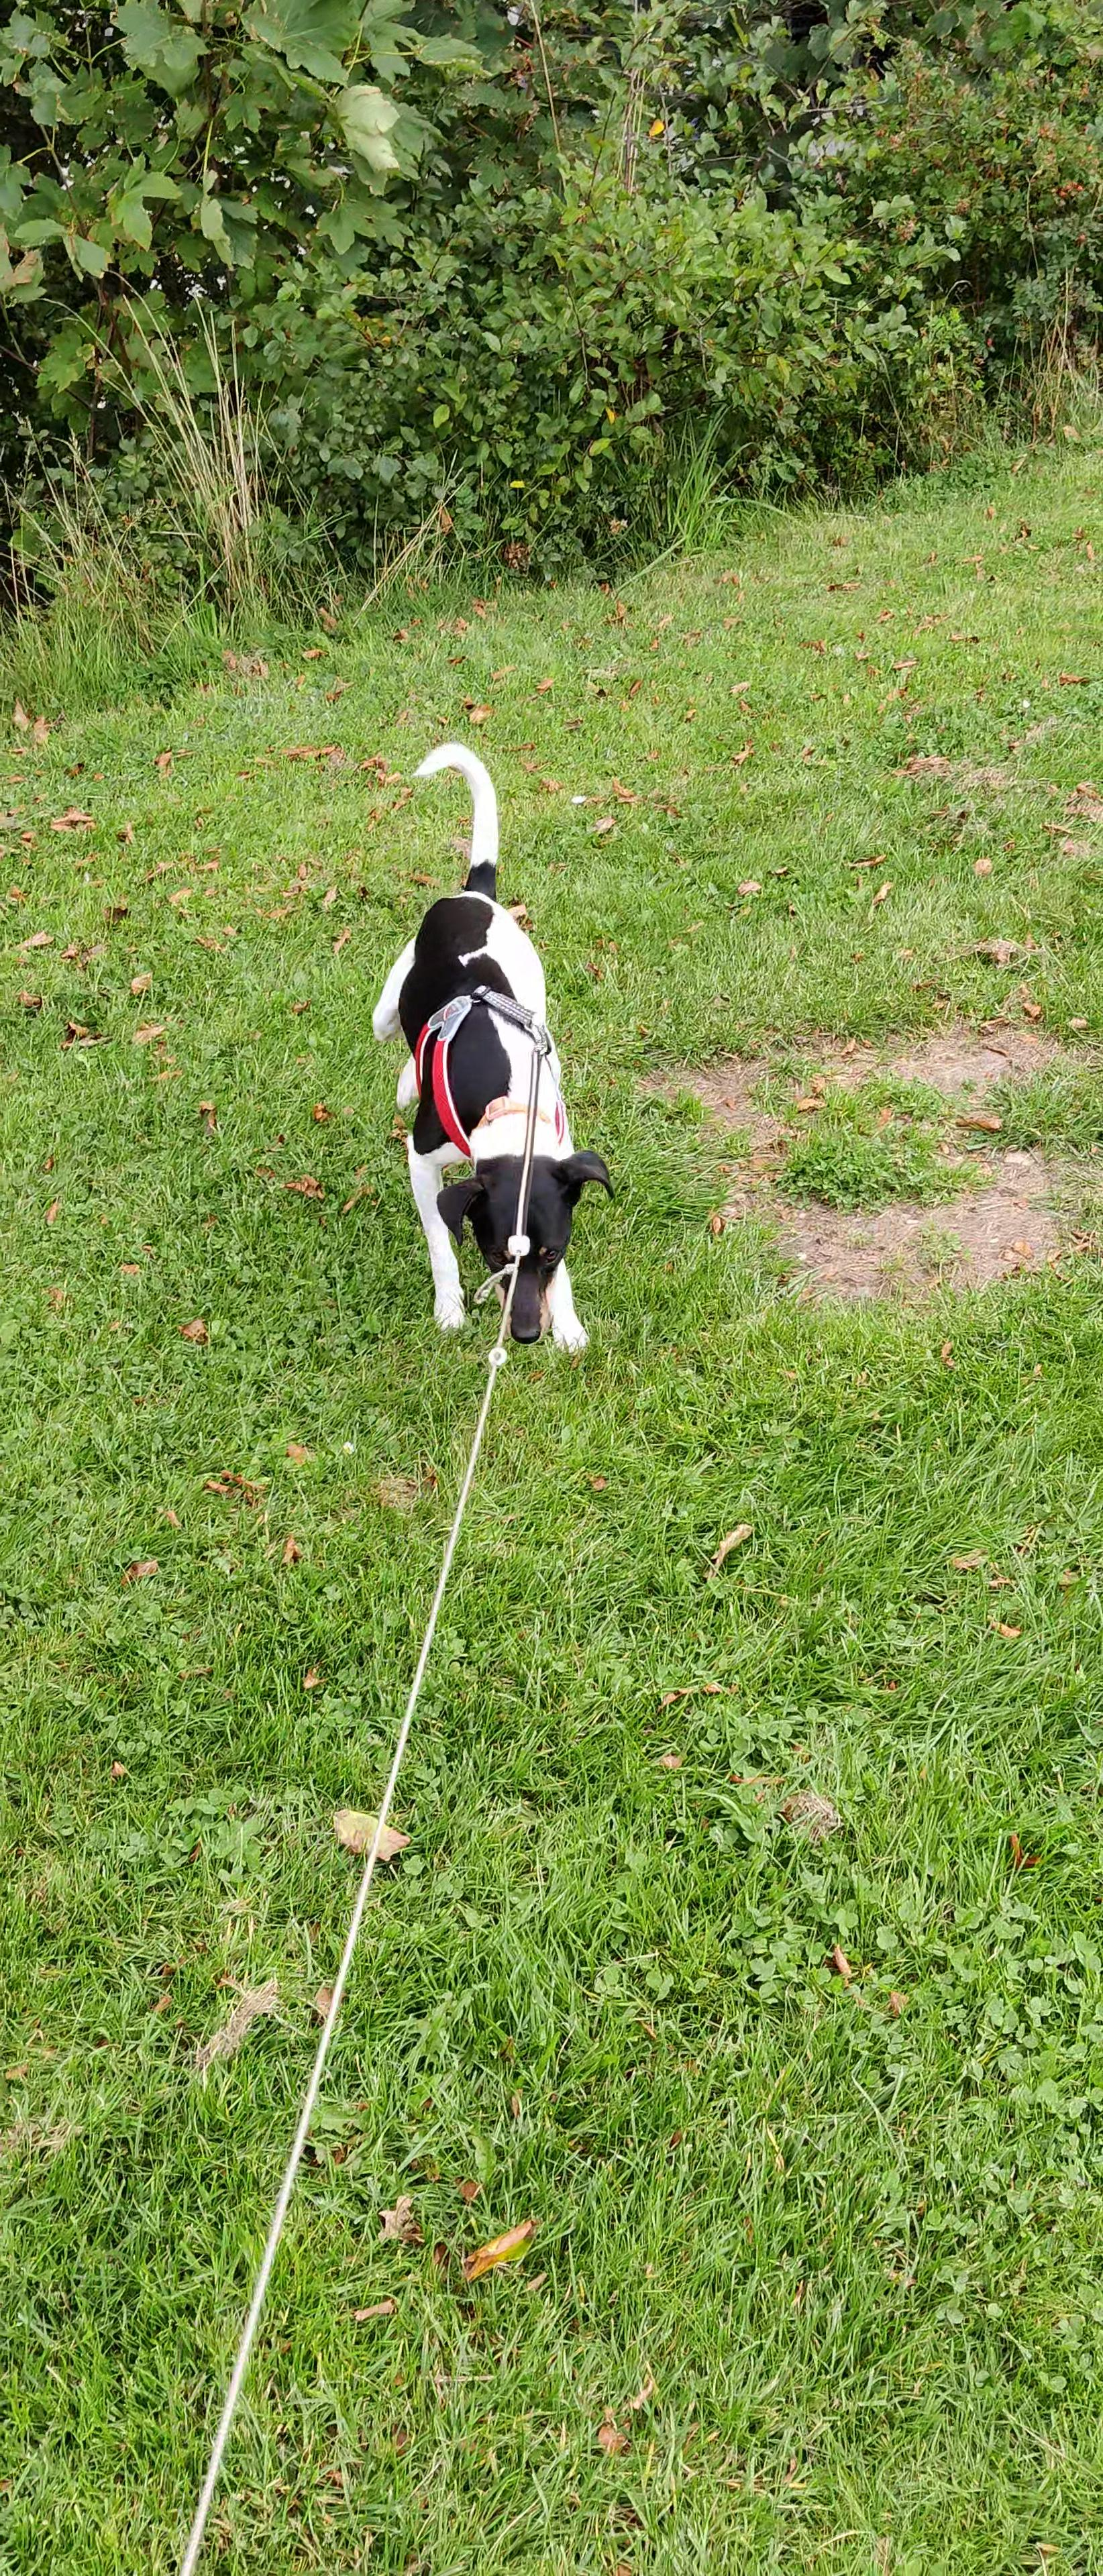Dog: (350, 733, 641, 1383)
